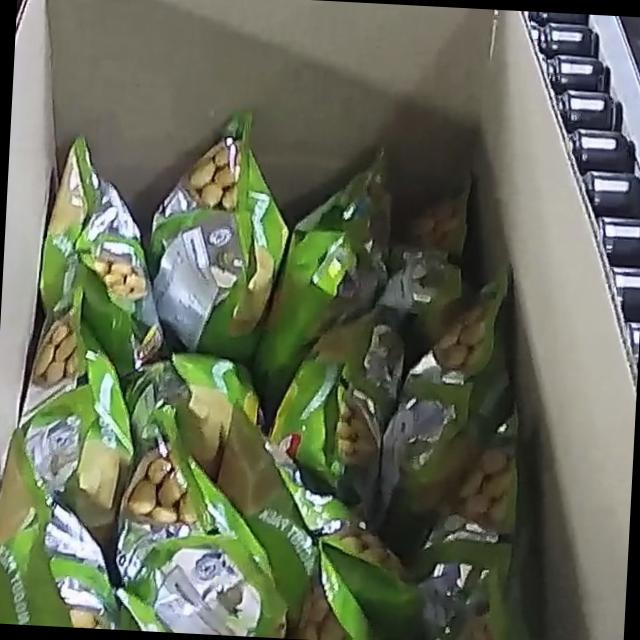yogurt: (0, 98, 557, 640)
